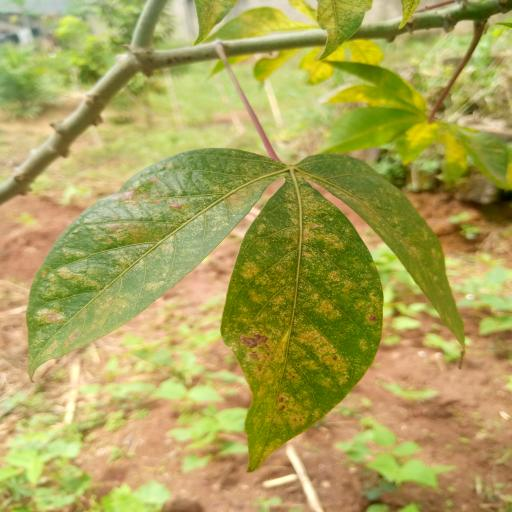Cassava_Mosaic: (14, 130, 480, 463)
